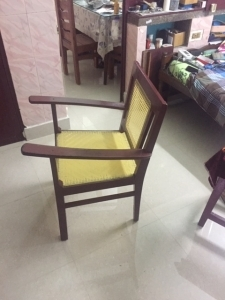chair: (20, 60, 168, 241)
